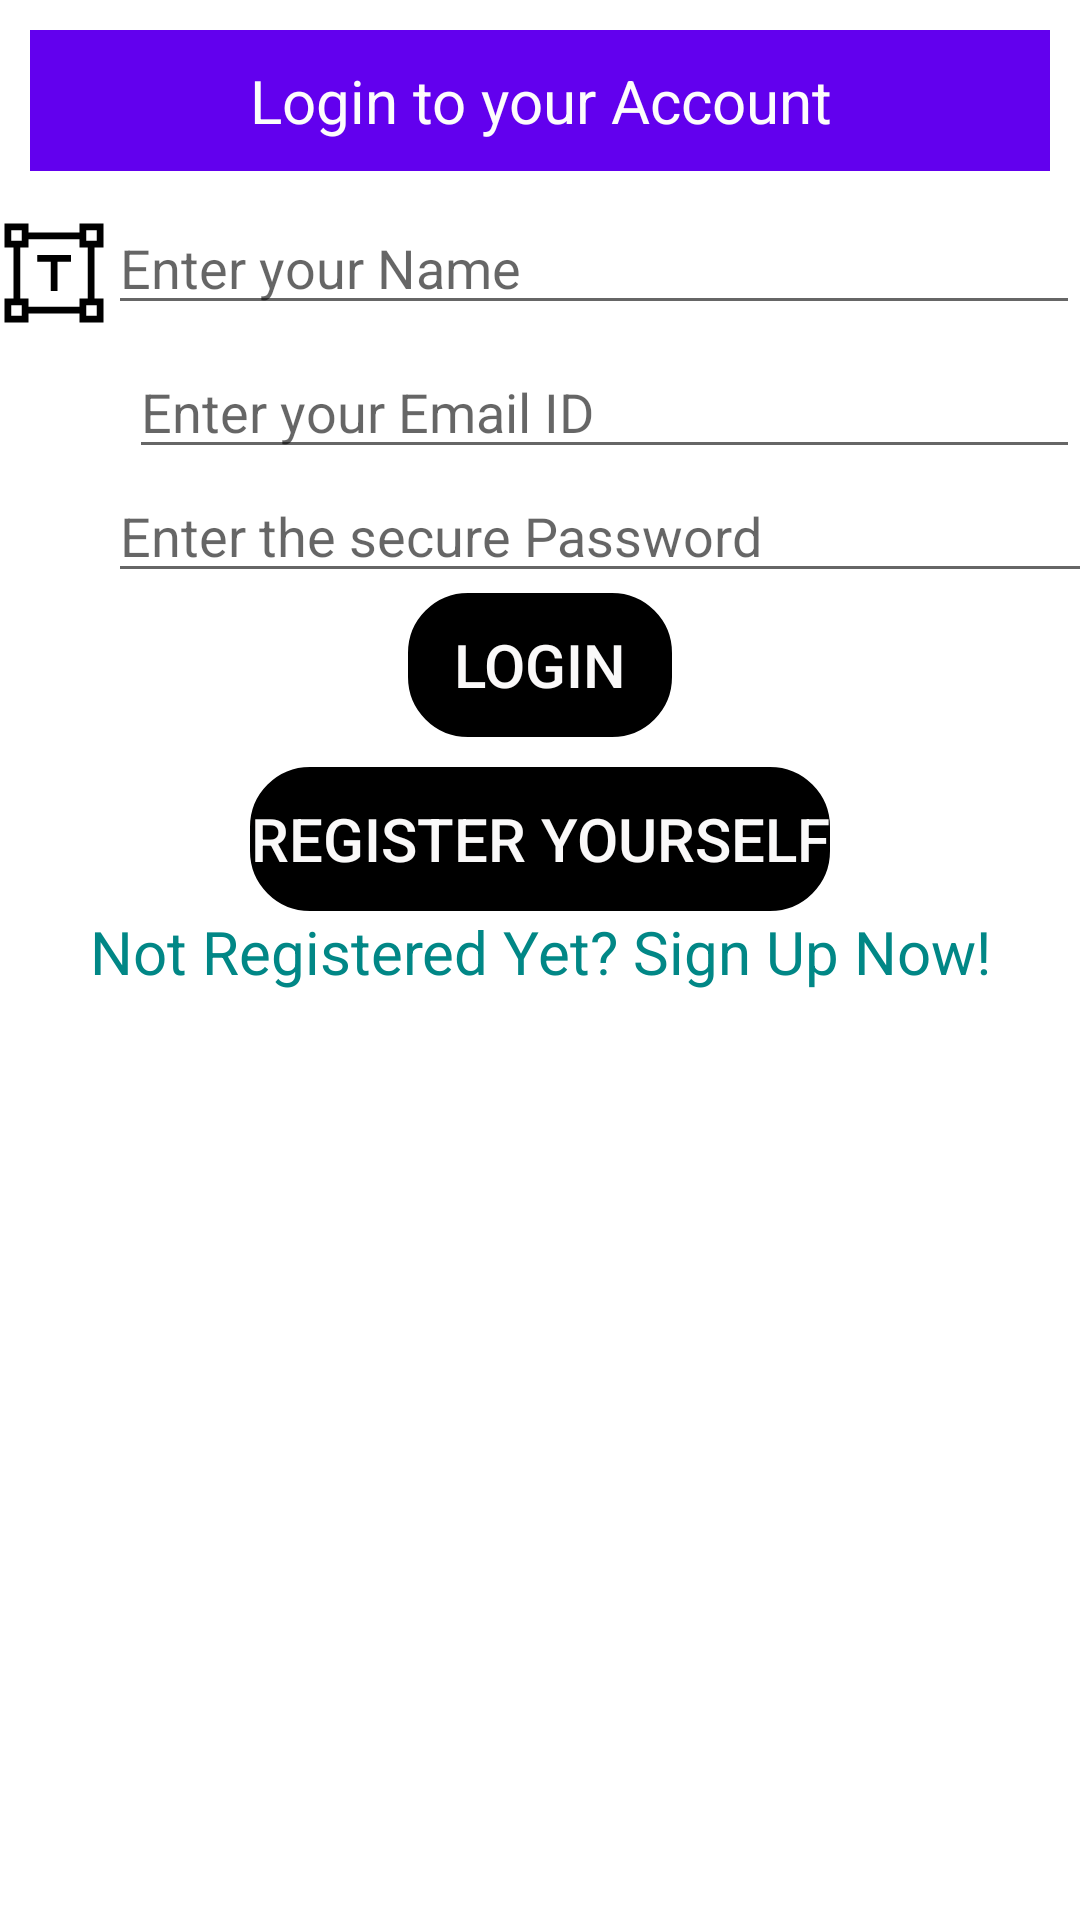

Named icons in this screenshot (1080px x 1920px) and their bounding boxes, (x1, y1, x2, y2):
insert text: (4, 223, 104, 323)
